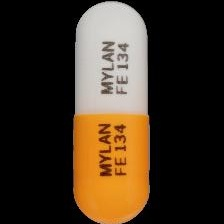0378-8629: (0, 0, 224, 224)
